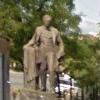Statue: (21, 7, 68, 91)
